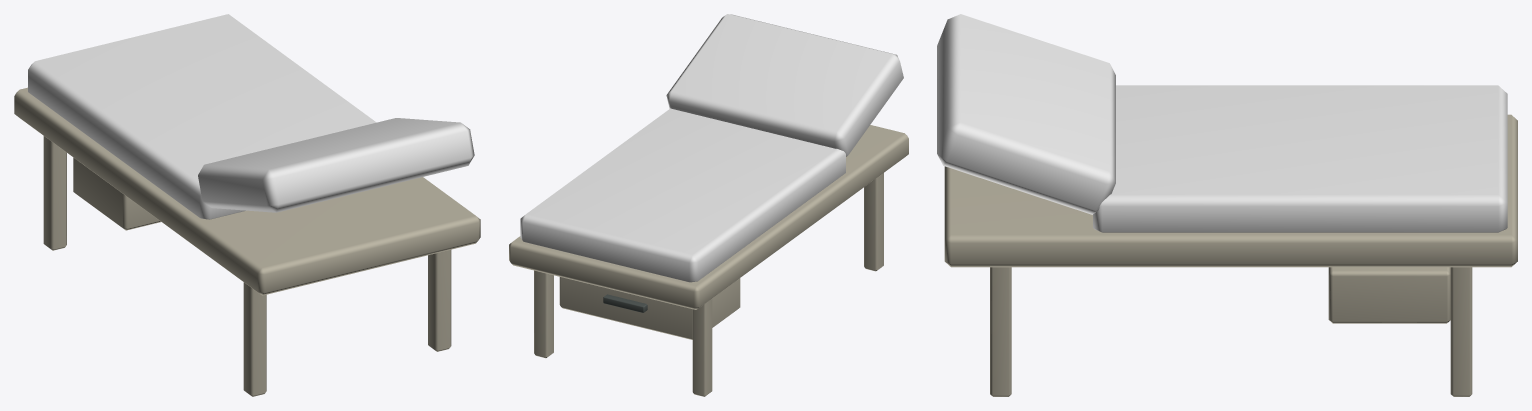
Rendered from TreatmentBed62.fbx.
3 renders of one model, left to right at view 1: azimuth 30°, elevation 25°; view 2: azimuth 150°, elevation 25°; view 3: azimuth 270°, elevation 25°, orthographic. The views are drawn at different scales.
Visible parts, largest first — view 1: TreatmentBed62; view 2: TreatmentBed62; view 3: TreatmentBed62.
Part boxes in pixels (x1,y1,x2,y2): TreatmentBed62: (14,14,480,396); TreatmentBed62: (509,14,908,396); TreatmentBed62: (937,14,1517,396).
Bounding box in the file's own units: 116 × 118 × 227.
